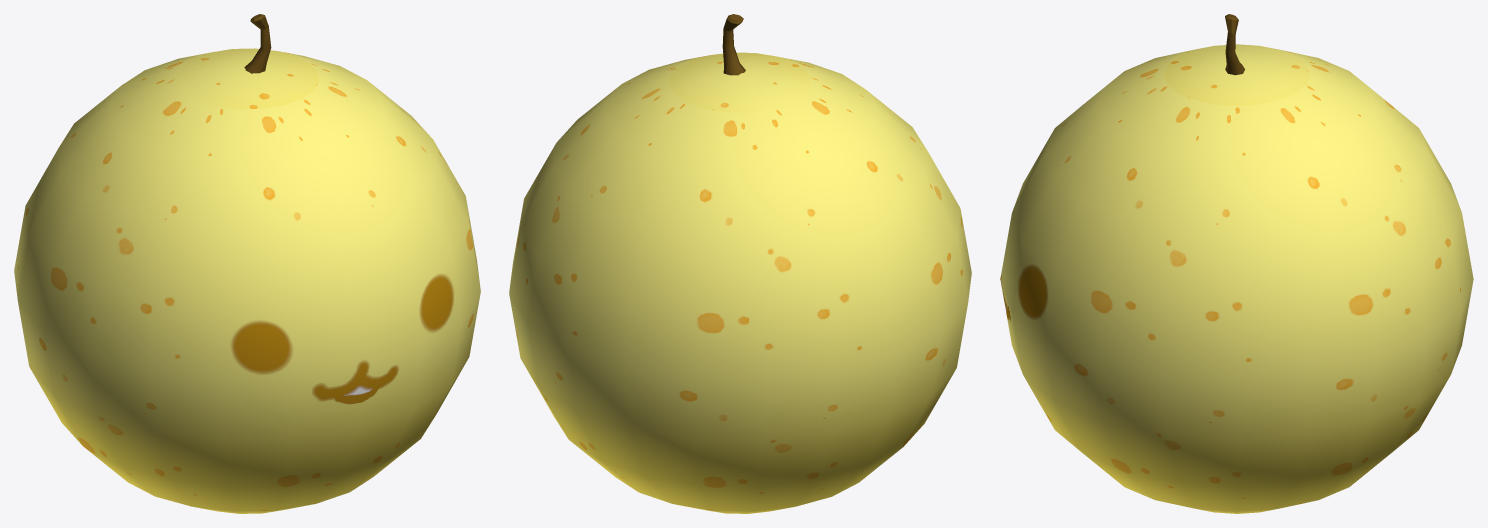
The model's file is Pear.fbx.
3 views of the same model, side by side, from view 1: azimuth 30°, elevation 25°; view 2: azimuth 150°, elevation 25°; view 3: azimuth 270°, elevation 25° (orthographic).
Parts seen in each view (by area): view 1: Pear; view 2: Pear; view 3: Pear.
Part boxes in pixels (x1=…): Pear: x1=14, y1=14, x2=480, y2=513; Pear: x1=509, y1=14, x2=971, y2=513; Pear: x1=1000, y1=14, x2=1473, y2=513.
Size of the model in its own units: 11.38 by 12.81 by 11.38.
